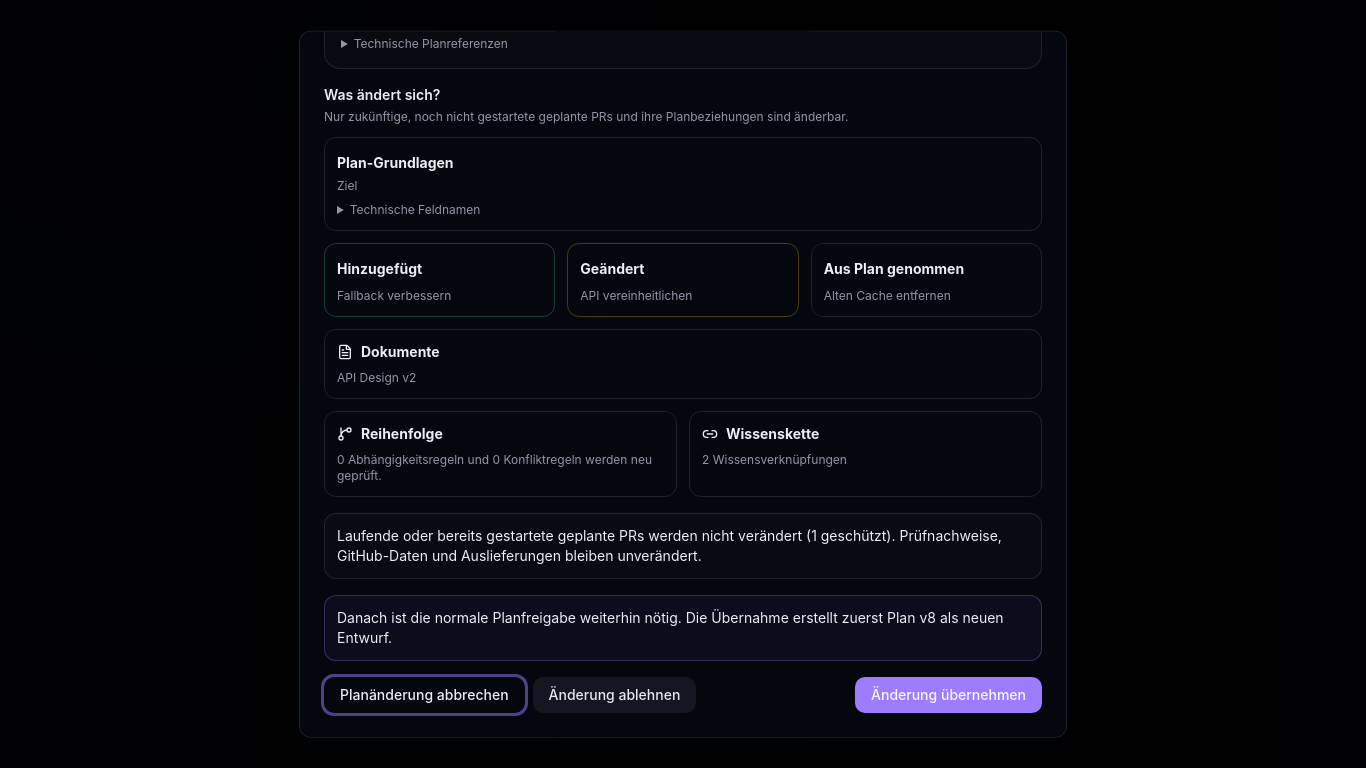
Test: übernimmt nur den exakt geprüften Zielplan und erklärt die nächste Freigabe
(page scrolled)
Click the button "Änderung übernehmen" at (949, 695), box left=855, top=677, right=1042, bottom=713
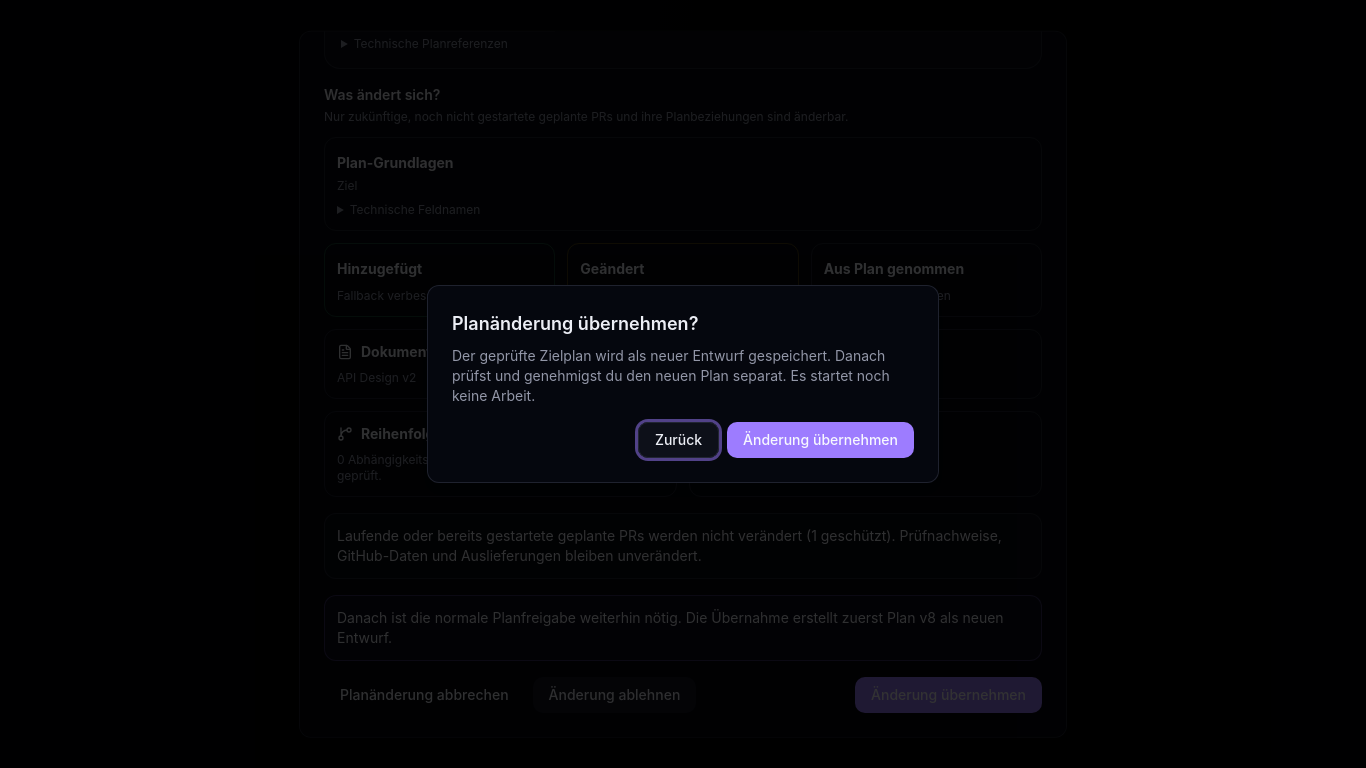
expect the dialog "Planänderung übernehmen?" is shown: met, box left=427, top=285, right=939, bottom=483
expect the text "Danach prüfst und genehmigst du den neuen Plan separat" is shown: met, box left=452, top=347, right=890, bottom=404
Click the button "Änderung übernehmen" at (821, 440), box left=727, top=422, right=914, bottom=458
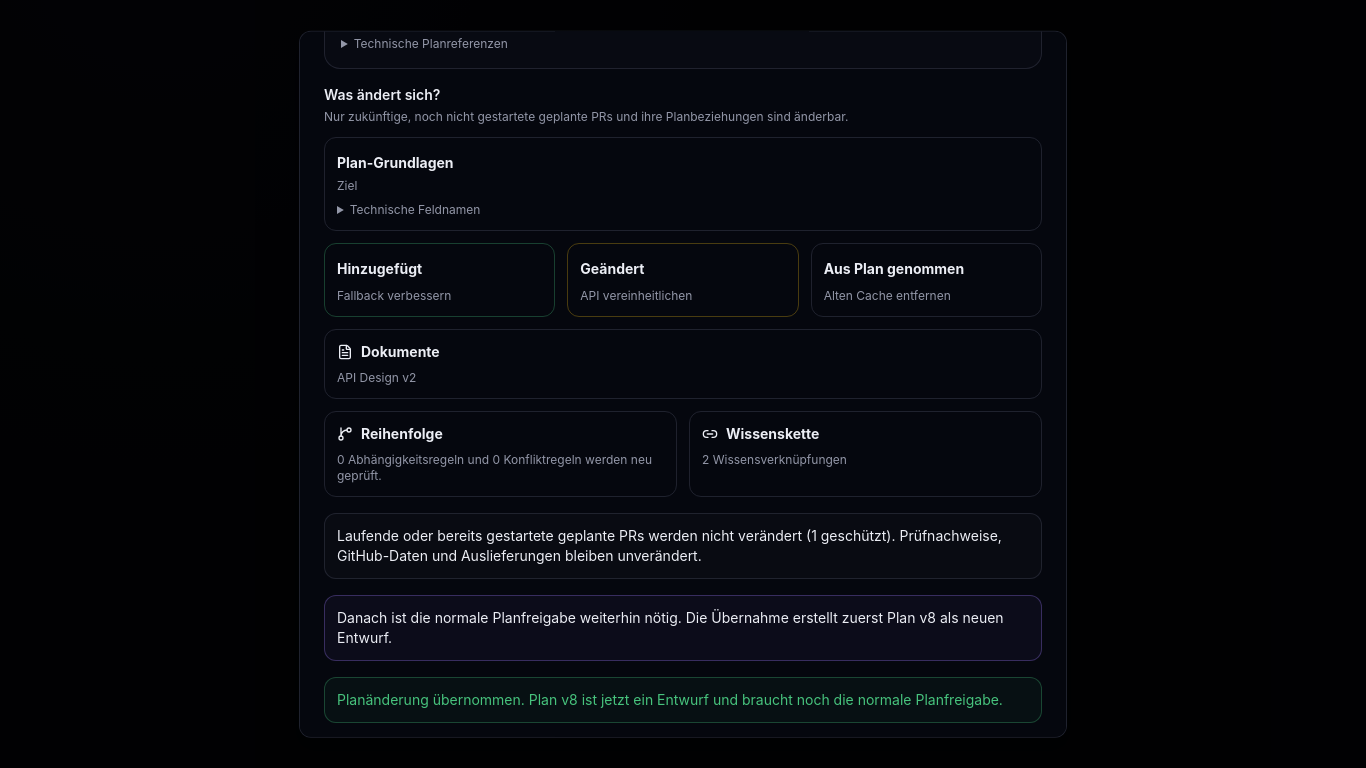
expect the text "Planänderung übernommen. Plan v8 ist jetzt ein Entwurf und braucht noch die normale Planfreigabe." is shown: met, box left=337, top=691, right=1003, bottom=708
